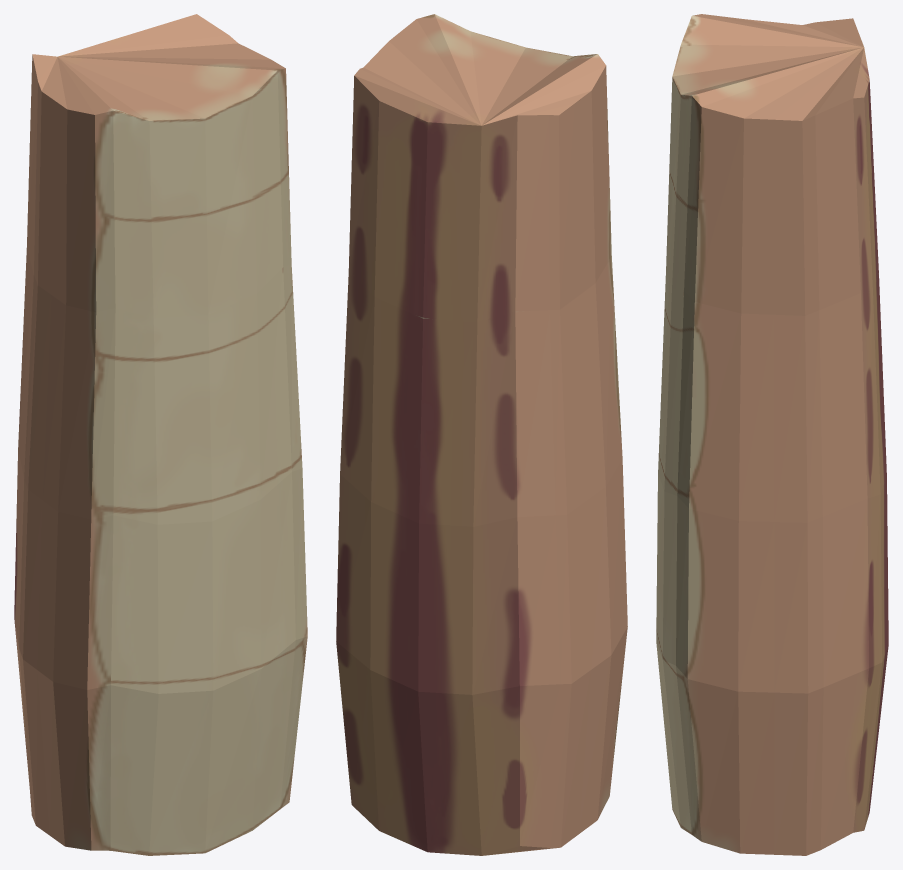
Rendered from Snake_Body.fbx.
3 renders of one model, left to right at view 1: azimuth 30°, elevation 25°; view 2: azimuth 150°, elevation 25°; view 3: azimuth 270°, elevation 25°, orthographic.
Visible parts, largest first — view 1: polySurface4; view 2: polySurface4; view 3: polySurface4.
Boxes of the visible parts, x1=… form: polySurface4: x1=14, y1=14, x2=307, y2=855; polySurface4: x1=336, y1=14, x2=627, y2=855; polySurface4: x1=656, y1=14, x2=888, y2=855.
Bounding box in the file's own units: 0.1875 × 0.5708 × 0.1589.
